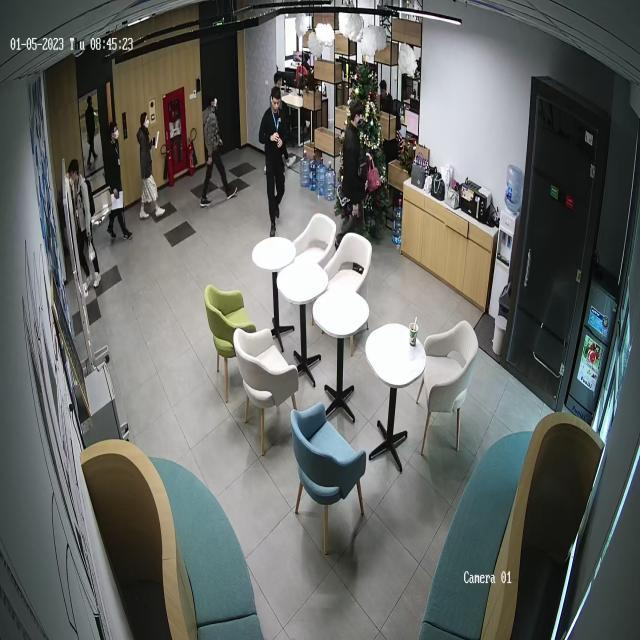person: (66, 159, 102, 293), (200, 95, 238, 205), (339, 100, 369, 239), (136, 111, 166, 222), (106, 123, 132, 242), (266, 70, 290, 170), (377, 73, 395, 114), (376, 72, 394, 113), (122, 111, 129, 140)
